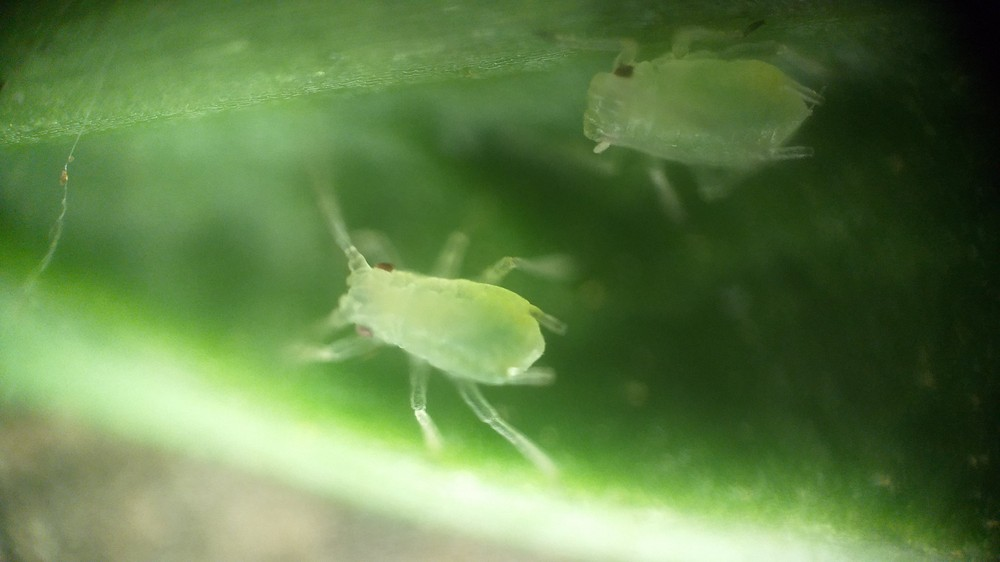Pulgon: (289, 184, 603, 489), (554, 14, 854, 225)
